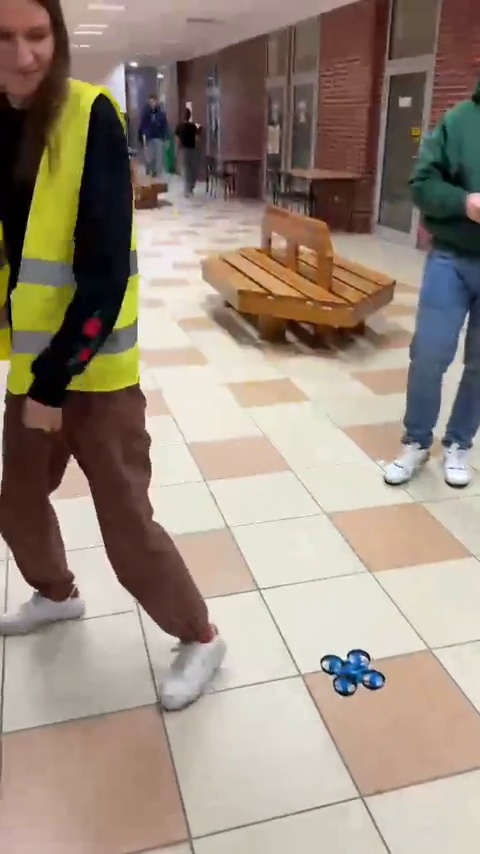drone: (321, 649, 385, 692)
no vest: (374, 68, 480, 495), (175, 105, 214, 212), (137, 90, 172, 181)
vest: (0, 0, 195, 707)
